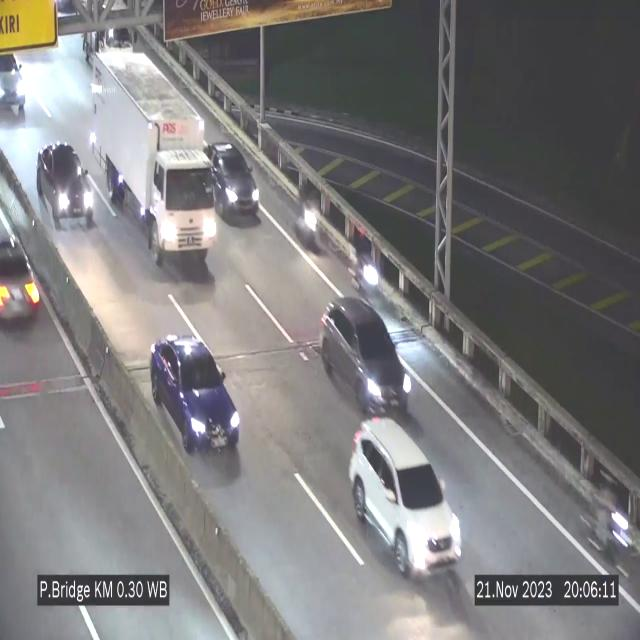Car: (349, 418, 461, 578), (150, 336, 240, 460), (322, 297, 411, 414), (34, 142, 96, 238), (208, 142, 263, 220), (0, 228, 47, 319), (0, 45, 31, 131)
Motorcycle: (582, 482, 632, 574), (352, 220, 382, 297), (296, 176, 324, 252)
Truck: (92, 50, 215, 265), (84, 3, 140, 73)
